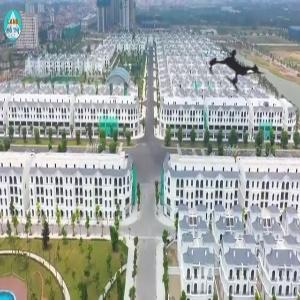drone: (192, 28, 279, 115)
